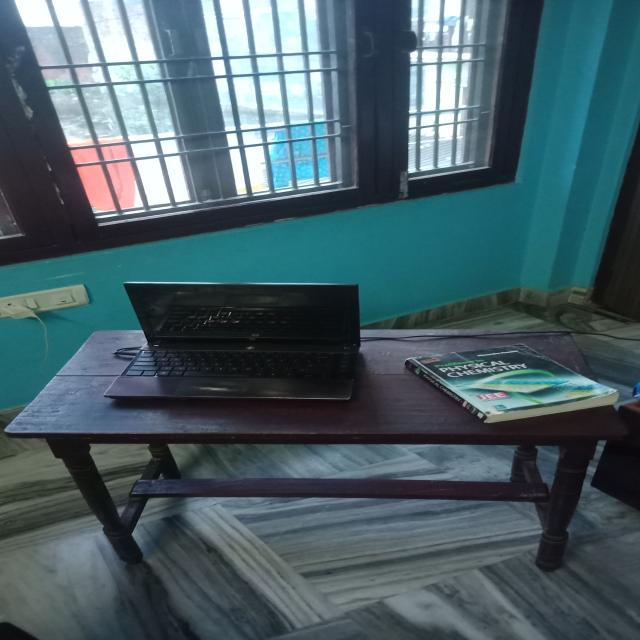book: (401, 343, 620, 425)
laptop: (107, 282, 361, 404)
table: (2, 328, 633, 578)
